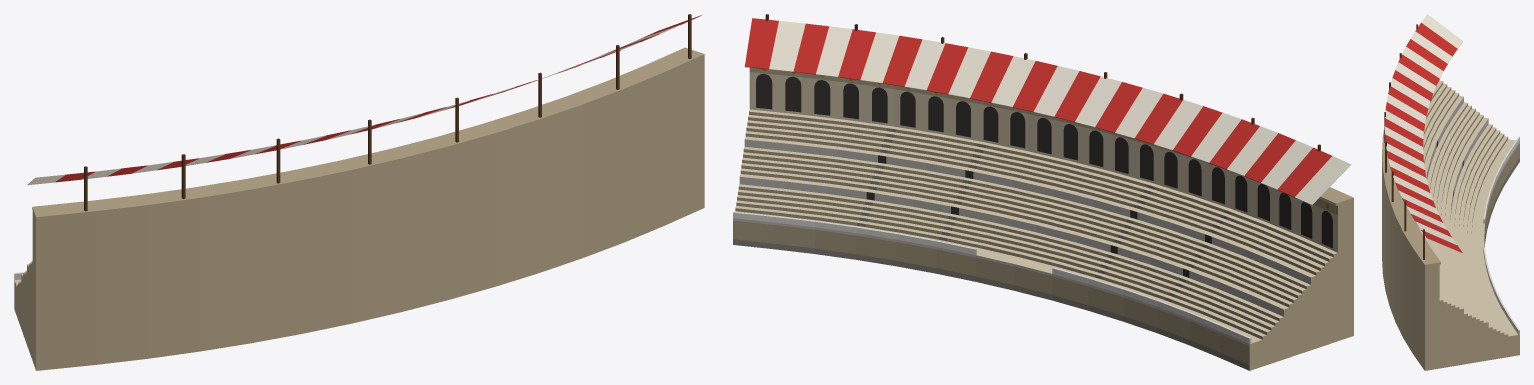
Rendered from SM_ColCavea_4.fbx.
3 renders of one model, left to right at view 1: azimuth 30°, elevation 25°; view 2: azimuth 150°, elevation 25°; view 3: azimuth 270°, elevation 25°, orthographic. The views are drawn at different scales.
Visible parts, largest first — view 1: SM_ColCavea_4; view 2: SM_ColCavea_4; view 3: SM_ColCavea_4.
Boxes of the visible parts, <box> form: SM_ColCavea_4: <box>14,14,704,370</box>; SM_ColCavea_4: <box>733,14,1353,370</box>; SM_ColCavea_4: <box>1382,14,1519,370</box>.
Size of the model in its own units: 101 by 26.18 by 28.5.
